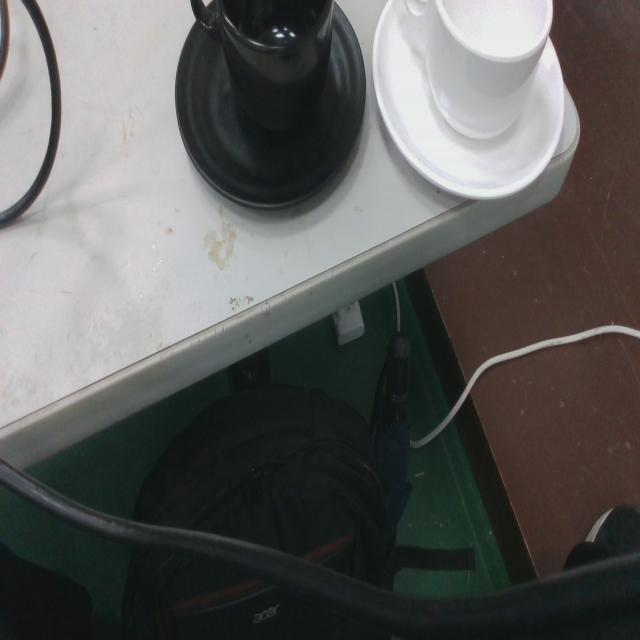black: (170, 0, 370, 215)
white: (371, 0, 568, 209)
